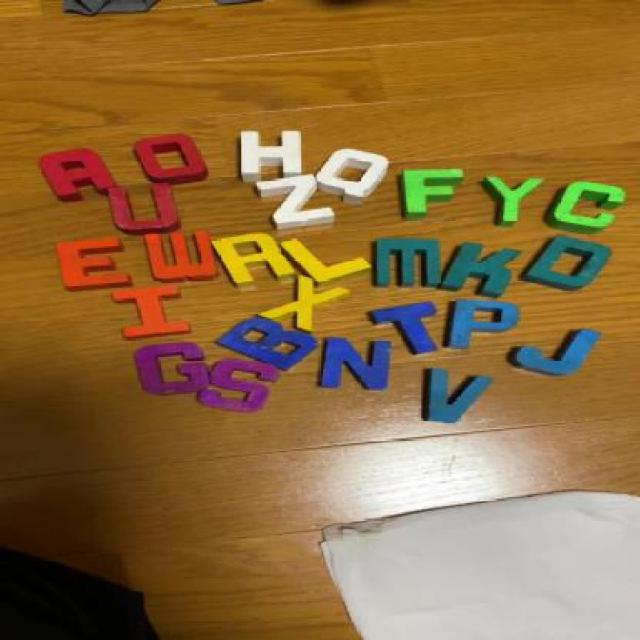A: (40, 148, 109, 201)
B: (216, 315, 315, 368)
C: (556, 179, 630, 232)
D: (534, 234, 609, 291)
E: (56, 238, 126, 292)
F: (401, 163, 470, 212)
G: (122, 343, 206, 400)
H: (232, 128, 310, 183)
I: (111, 283, 187, 342)
J: (517, 326, 601, 377)
K: (453, 243, 518, 302)
L: (285, 234, 366, 284)
M: (381, 240, 442, 288)
N: (325, 338, 392, 391)
O: (147, 133, 204, 181)
P: (440, 298, 514, 352)
Q: (318, 149, 398, 196)
R: (217, 237, 292, 286)
S: (209, 359, 286, 415)
T: (375, 300, 442, 352)
U: (101, 184, 173, 230)
V: (414, 369, 494, 425)
W: (146, 232, 220, 286)
X: (275, 276, 353, 332)
Y: (478, 178, 540, 222)
Z: (255, 174, 338, 226)
